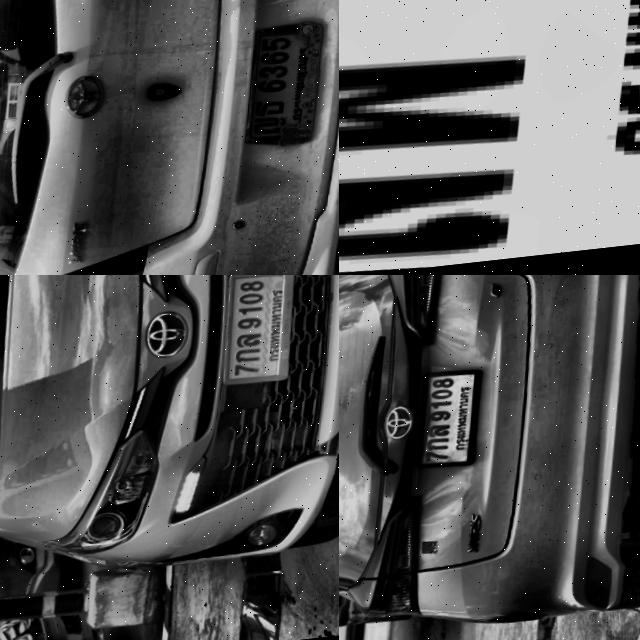license-plate: (339, 0, 640, 275), (241, 29, 328, 162), (218, 275, 301, 401), (412, 370, 489, 483)
